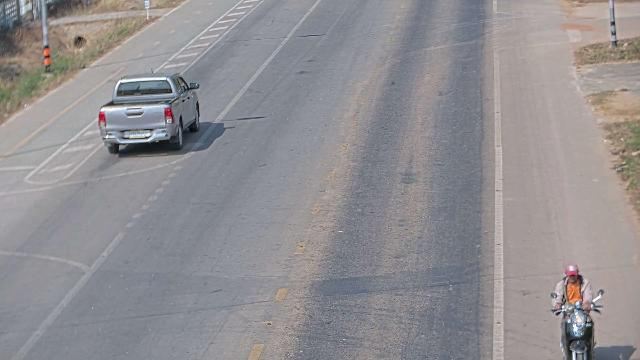pickup-truck: (97, 70, 201, 154)
